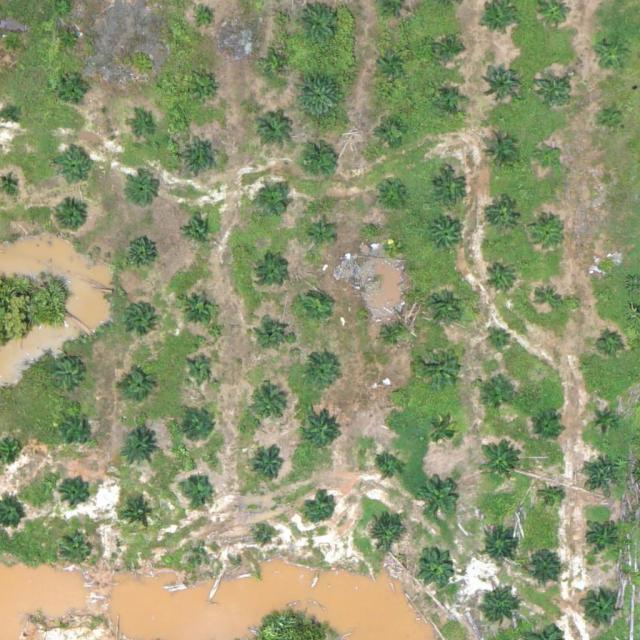Small: (297, 137, 344, 185), (419, 341, 466, 389), (297, 72, 344, 120), (417, 478, 457, 518), (120, 430, 160, 470), (302, 409, 341, 449), (426, 289, 465, 329), (481, 134, 520, 174), (536, 72, 575, 112), (253, 109, 292, 149), (592, 35, 631, 75), (431, 169, 470, 209), (52, 198, 91, 238), (180, 287, 219, 327), (55, 147, 94, 187), (478, 589, 517, 629), (582, 590, 622, 629), (367, 512, 406, 552), (582, 453, 621, 492), (479, 442, 518, 481), (251, 386, 290, 425), (483, 62, 522, 101), (429, 219, 468, 258), (301, 353, 340, 392), (181, 138, 220, 177), (415, 547, 454, 586), (482, 528, 521, 567), (524, 546, 563, 585), (182, 472, 213, 504), (185, 411, 216, 443), (121, 371, 152, 403), (128, 175, 159, 207), (55, 362, 86, 394), (61, 414, 92, 446), (61, 475, 92, 507), (124, 499, 155, 531), (126, 238, 157, 270), (183, 216, 214, 248), (59, 73, 90, 105), (254, 451, 285, 482), (305, 493, 336, 524), (258, 316, 289, 347), (260, 188, 291, 219), (258, 256, 289, 287), (376, 177, 407, 208), (376, 117, 407, 148), (490, 199, 521, 230), (533, 219, 564, 250), (479, 383, 510, 414), (300, 291, 331, 322), (124, 303, 155, 334), (585, 522, 616, 553), (533, 413, 564, 444), (427, 418, 458, 449), (374, 454, 405, 485), (379, 318, 410, 349), (63, 538, 94, 569), (435, 33, 466, 64), (436, 86, 467, 117), (377, 46, 408, 77), (486, 264, 517, 295), (309, 222, 333, 246), (129, 116, 153, 140), (542, 488, 566, 512), (488, 327, 512, 351), (536, 147, 560, 171), (597, 261, 621, 285), (539, 287, 563, 311), (195, 80, 218, 104), (592, 410, 615, 434), (600, 333, 624, 356), (188, 358, 211, 382), (2, 33, 26, 56), (60, 29, 83, 53), (601, 108, 624, 131), (257, 526, 273, 542), (271, 58, 287, 74), (384, 240, 400, 255), (198, 547, 213, 563), (197, 12, 212, 27), (389, 387, 404, 402), (3, 109, 18, 124)
